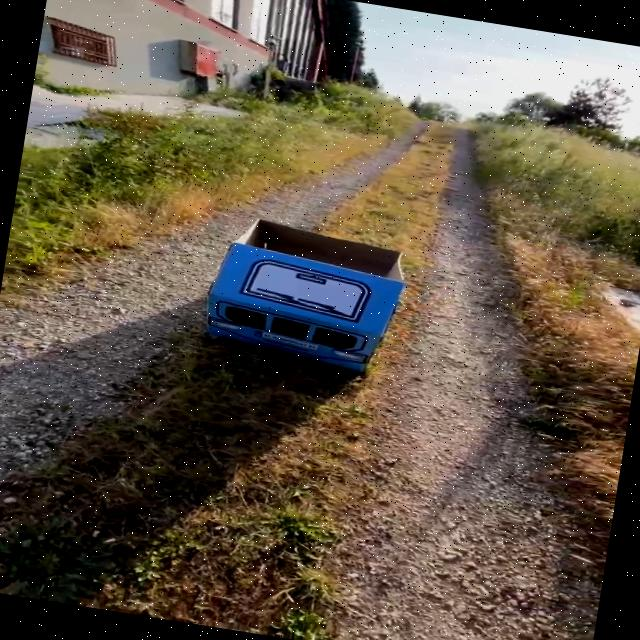blue_car: (151, 185, 487, 406)
